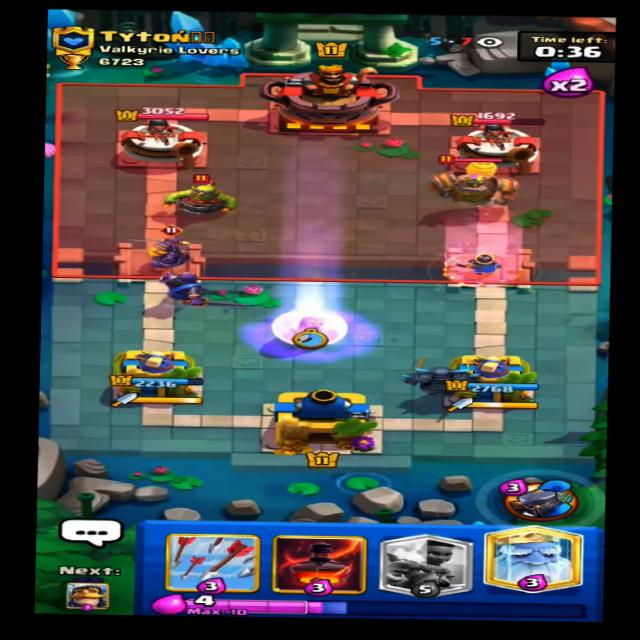EvoKnight: (134, 225, 210, 271)
Goblindemolisher: (157, 173, 245, 217)
Goblinmachine: (422, 152, 519, 204)
